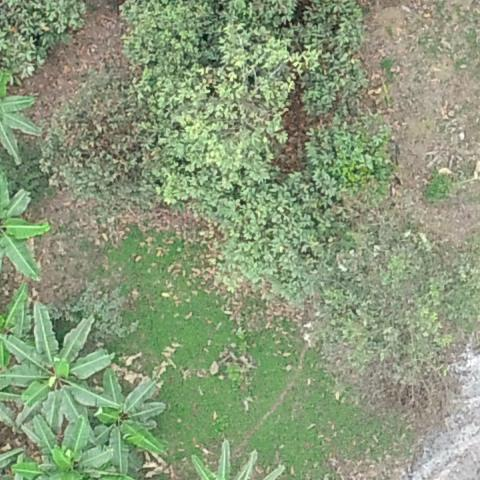Banana-plant: (2, 298, 123, 424), (88, 367, 174, 477), (0, 407, 129, 480), (0, 166, 52, 287)
